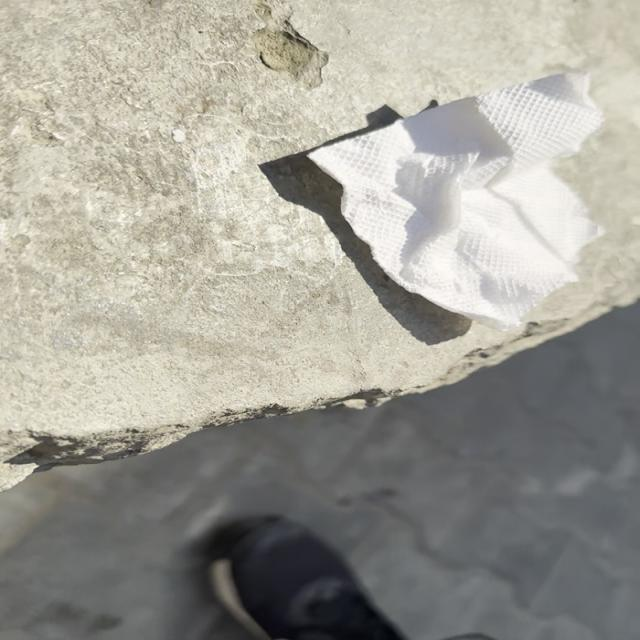tissue: (305, 67, 611, 333)
